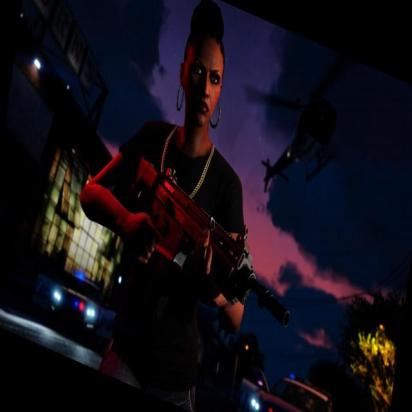Gun: (117, 148, 292, 332)
